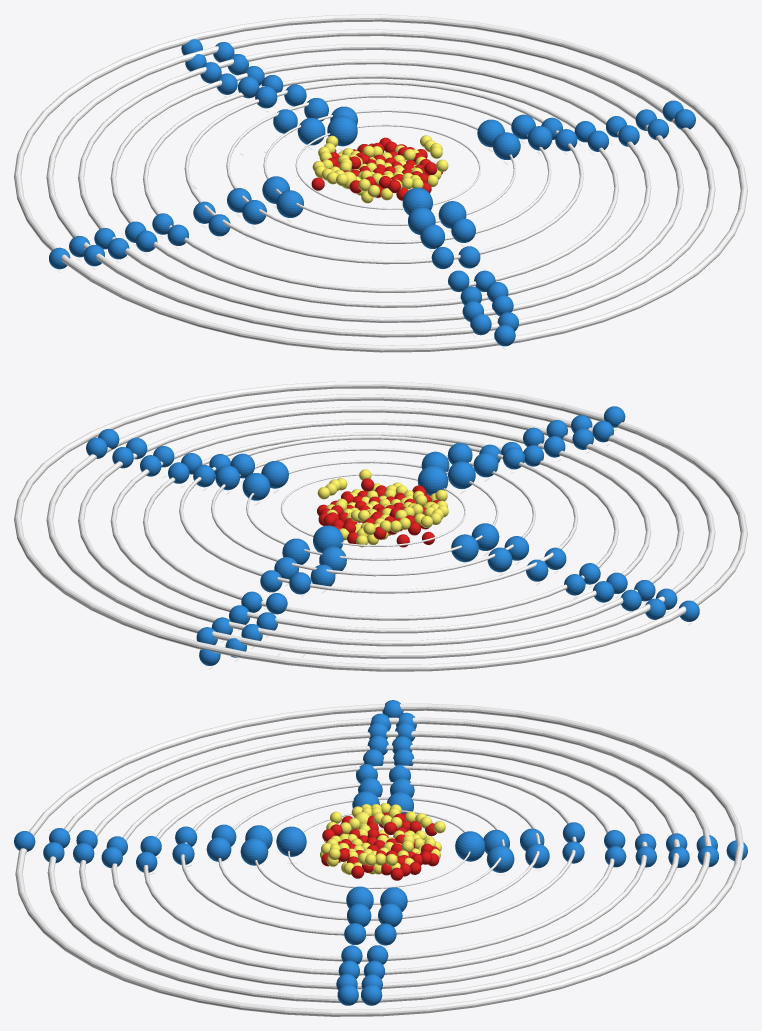
3 views of the same model, one above another, from view 1: azimuth 30°, elevation 25°; view 2: azimuth 150°, elevation 25°; view 3: azimuth 270°, elevation 25° (orthographic).
Parts seen in each view (by area): view 1: Torus.009, Torus.008, Torus.007, Torus.006, Torus.005, Torus.004, Torus.003, Torus.002, Torus.001, g, g.005, g.003 (+2 smaller); view 2: Torus.009, Torus.008, Torus.007, Torus.006, Torus.005, Torus.004, Torus.003, Torus.002, Torus.001, g.001, g, g.006 (+8 smaller); view 3: Torus.009, Torus.008, Torus.007, Torus.006, Torus.005, Torus.004, Torus.003, Torus.002, g.001, g, Torus.001, g.007 (+1 smaller).
Part boxes in pixels (box(x1,y1,x2,y2)): Torus.009: box(14, 14, 747, 352); Torus.008: box(46, 29, 715, 337); Torus.007: box(78, 44, 683, 322); Torus.006: box(110, 59, 651, 307); Torus.005: box(143, 74, 618, 292); Torus.004: box(184, 80, 583, 264); Torus.003: box(226, 94, 551, 243); Torus.002: box(263, 109, 515, 225); Torus.001: box(295, 124, 480, 209); g: box(327, 115, 357, 146); g.005: box(493, 132, 520, 159); g.003: box(276, 190, 303, 217); Torus.009: box(14, 381, 747, 671); Torus.008: box(46, 394, 715, 658); Torus.007: box(78, 406, 683, 646); Torus.006: box(110, 419, 651, 633); Torus.005: box(143, 432, 618, 620); Torus.004: box(179, 435, 578, 593); Torus.003: box(211, 447, 535, 576); Torus.002: box(246, 460, 498, 560); Torus.001: box(280, 473, 465, 546); g.001: box(417, 465, 448, 495); g: box(313, 525, 343, 552); g.006: box(448, 461, 475, 489); Torus.009: box(15, 703, 743, 1016); Torus.008: box(47, 717, 711, 1002); Torus.007: box(79, 731, 679, 989); Torus.006: box(111, 745, 647, 975); Torus.005: box(143, 758, 614, 961); Torus.004: box(180, 765, 576, 935); Torus.003: box(218, 782, 540, 920); Torus.002: box(255, 797, 504, 904); g.001: box(276, 826, 306, 856); g: box(455, 831, 485, 861); Torus.001: box(288, 810, 470, 888); g.007: box(240, 838, 268, 865).
Size of the model in its own units: 24.02 by 2.85 by 23.95.
